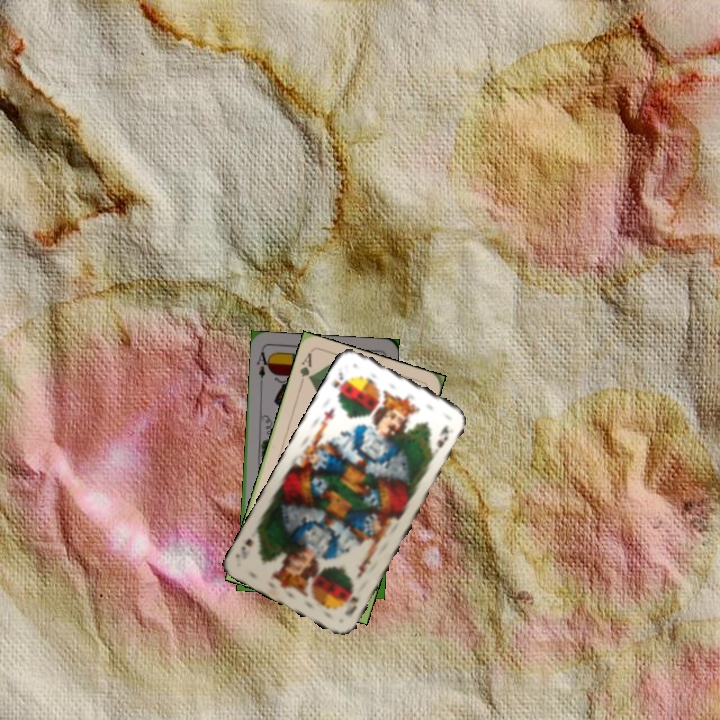EA: (252, 346, 273, 381)
GA: (295, 349, 315, 389)
SK: (327, 368, 350, 400), (341, 584, 361, 619)
